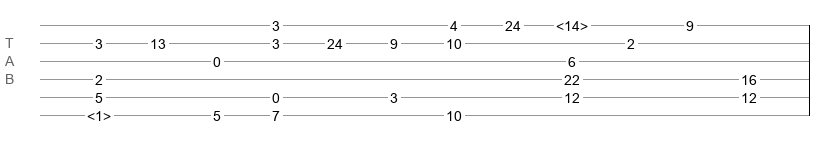0: (213, 54, 221, 64), (272, 90, 280, 100)
10: (446, 108, 462, 118), (446, 36, 462, 46)
12: (564, 90, 580, 100), (741, 90, 757, 100)
13: (150, 36, 166, 46)
16: (741, 72, 757, 82)
2: (95, 72, 103, 82), (627, 36, 635, 46)
22: (564, 72, 580, 82)
24: (327, 36, 343, 46), (505, 18, 521, 28)
3: (95, 36, 103, 46), (272, 36, 280, 46), (272, 18, 280, 28), (390, 90, 398, 100)
4: (450, 18, 458, 28)
5: (95, 90, 103, 100), (213, 108, 221, 118)
6: (568, 54, 576, 64)
7: (272, 108, 280, 118)
9: (390, 36, 398, 46), (686, 18, 694, 28)
harmonic: (556, 18, 588, 28), (87, 108, 111, 118)
